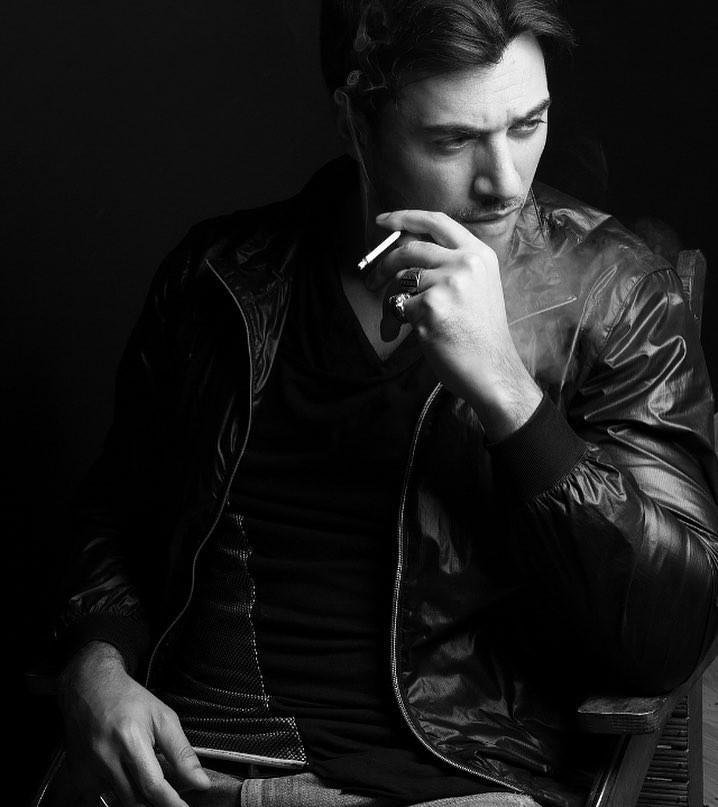cigarette: (356, 230, 400, 270)
